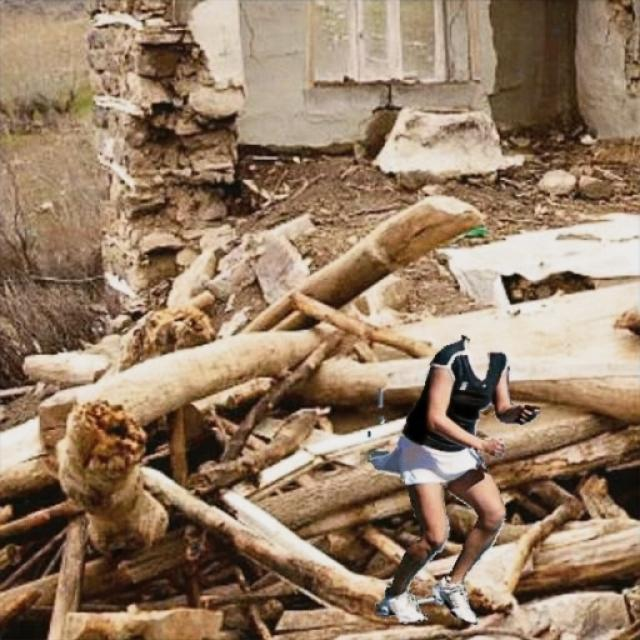Person in Rubble: (368, 312, 538, 624)
